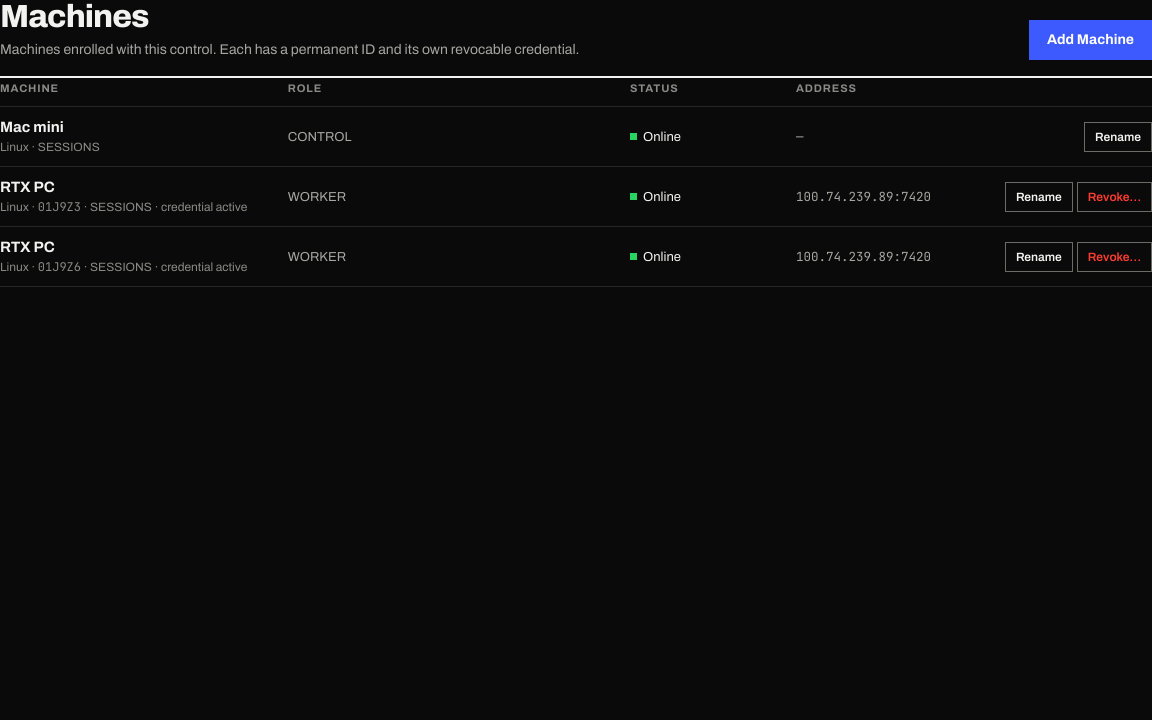
Test: MachinesTab (control registry) › a refused code request shows the reason and can be retried
The width and height of the screenshot is (1152, 720).
Click the button "Add Machine". click: (1090, 40)
box: [1029, 20, 1151, 60]
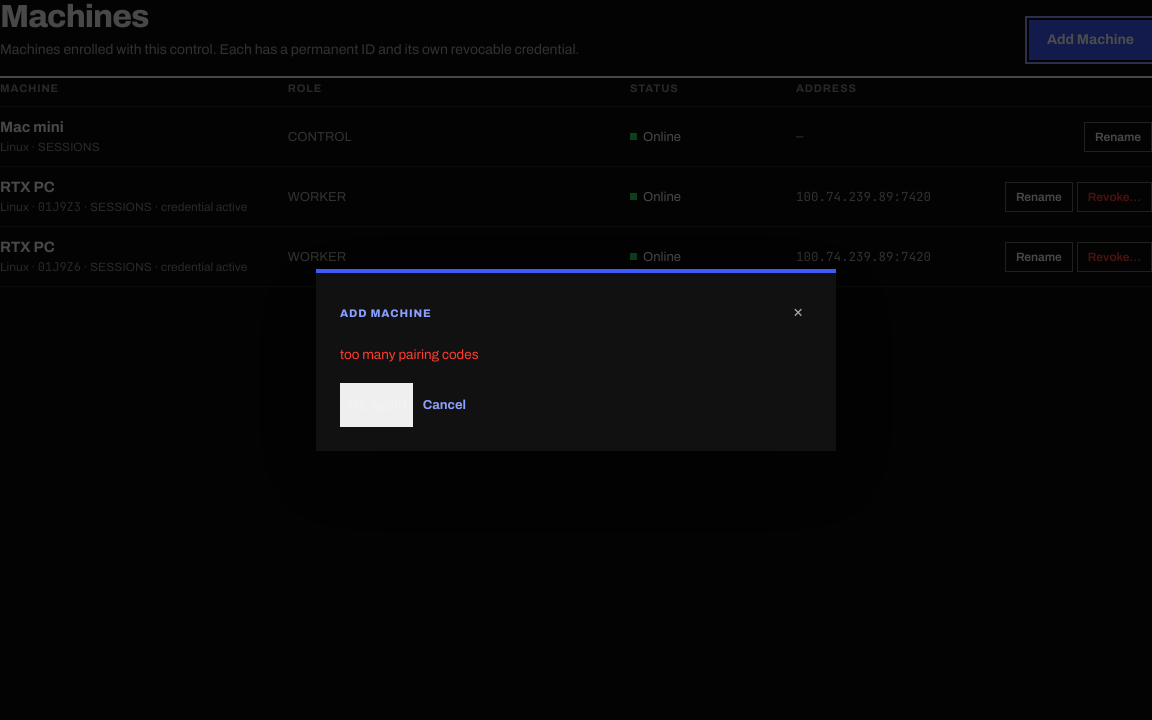
Check: the message reads "too many pairing codes", box [340, 347, 479, 362]
Click the button "Try again". click: (376, 405)
box: [340, 383, 413, 427]
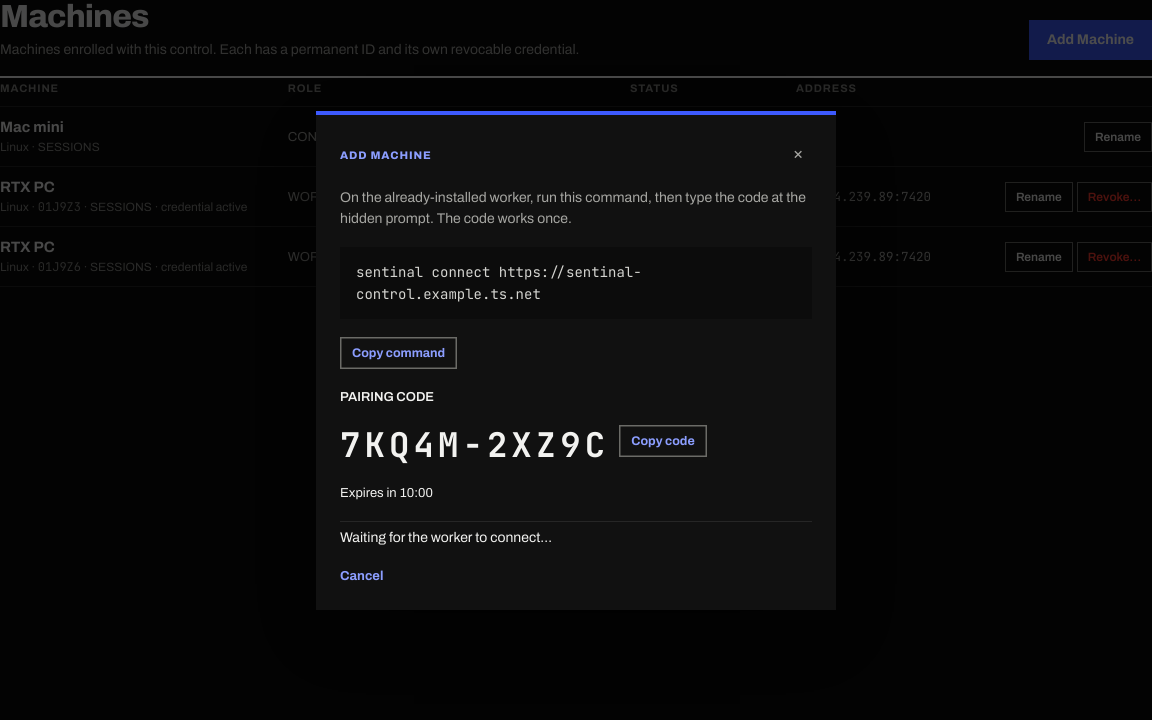
Check: the text "7KQ4M-2XZ9C" is shown, box [340, 424, 609, 464]
